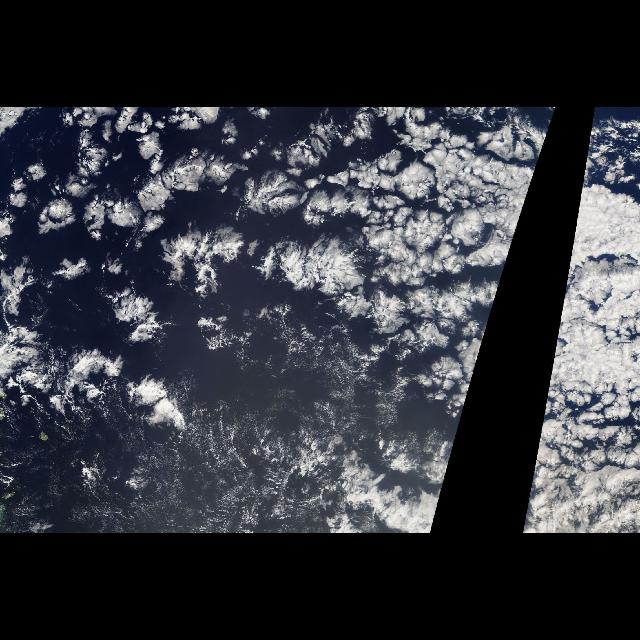Flower: (11, 109, 556, 429), (541, 109, 633, 429)
Sugar: (14, 440, 334, 526)
